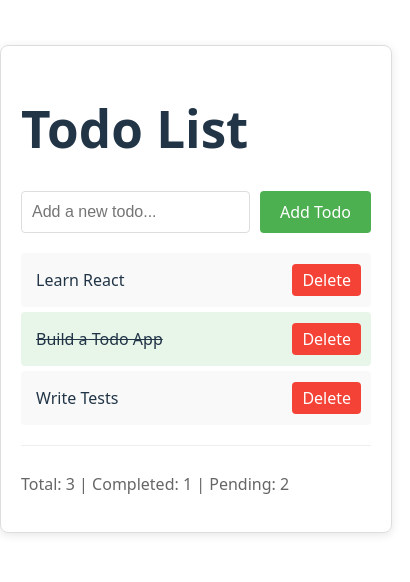
TodoList Component › adds a new todo
Type "New Test Todo" into the field with test id "todo-input" at (136, 212), box [21, 191, 250, 233]
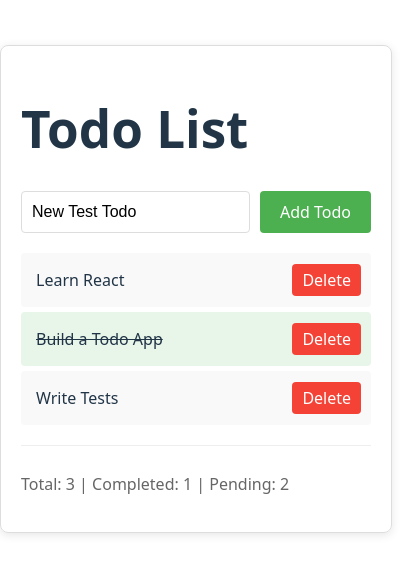
Click the button with test id "add-btn" at (316, 212), box [260, 191, 371, 233]
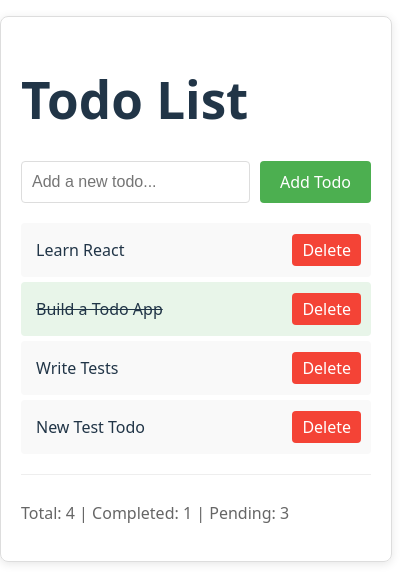
Expected: the text "New Test Todo" is shown, [36, 416, 145, 438]
Expected: the field with test id "todo-input" is empty, [21, 162, 250, 204]
